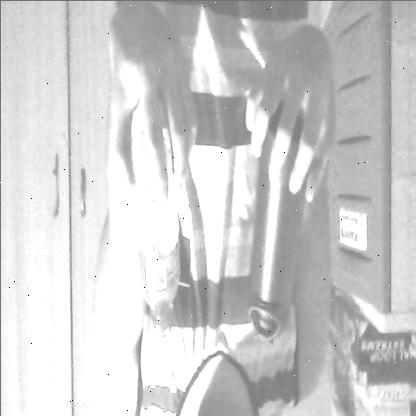Plastic Bottle: (124, 111, 188, 355)
